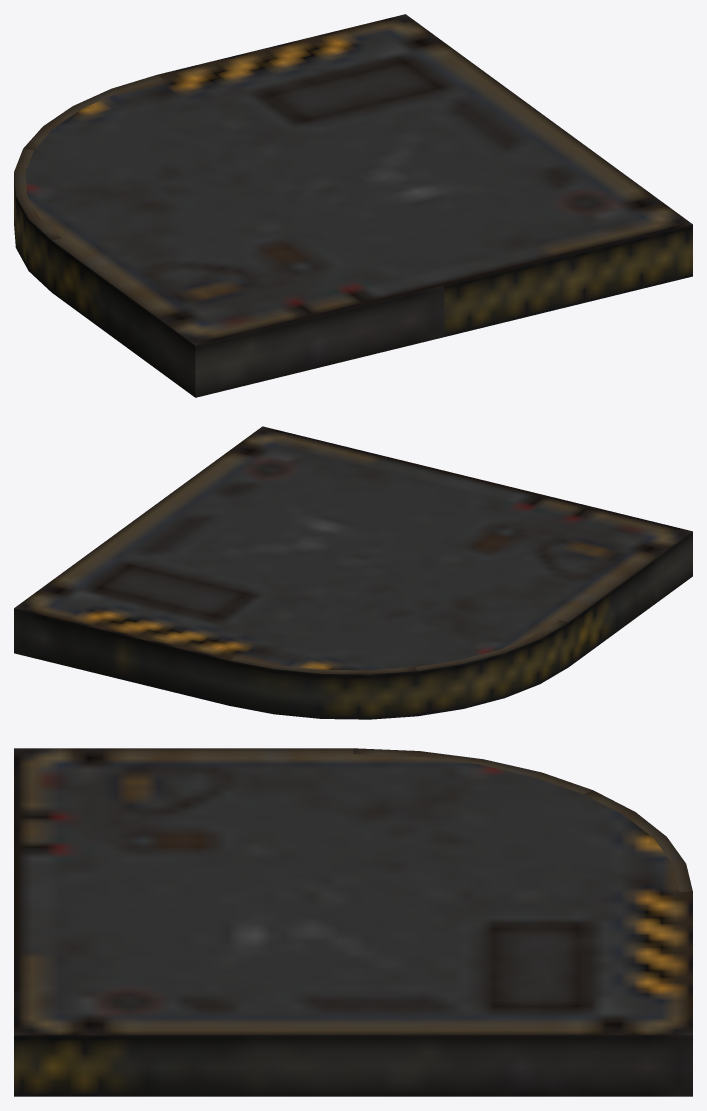
Rendered from Floor_middle_round.FBX.
The picture shows the model from 3 angles, top to bottom: view 1: azimuth 30°, elevation 25°; view 2: azimuth 150°, elevation 25°; view 3: azimuth 270°, elevation 25°; orthographic projection. The views are drawn at different scales.
Parts seen in each view (by area): view 1: Floor_middle_round; view 2: Floor_middle_round; view 3: Floor_middle_round.
Part boxes in pixels (bbox=[...]): Floor_middle_round: bbox=[14, 14, 692, 397]; Floor_middle_round: bbox=[14, 426, 692, 719]; Floor_middle_round: bbox=[14, 748, 692, 1096].
Bounding box in the file's own units: 300 × 30 × 300.
